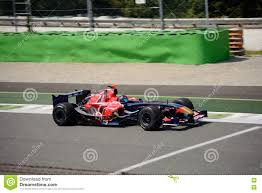FormulaOneCar: (49, 83, 211, 133)
